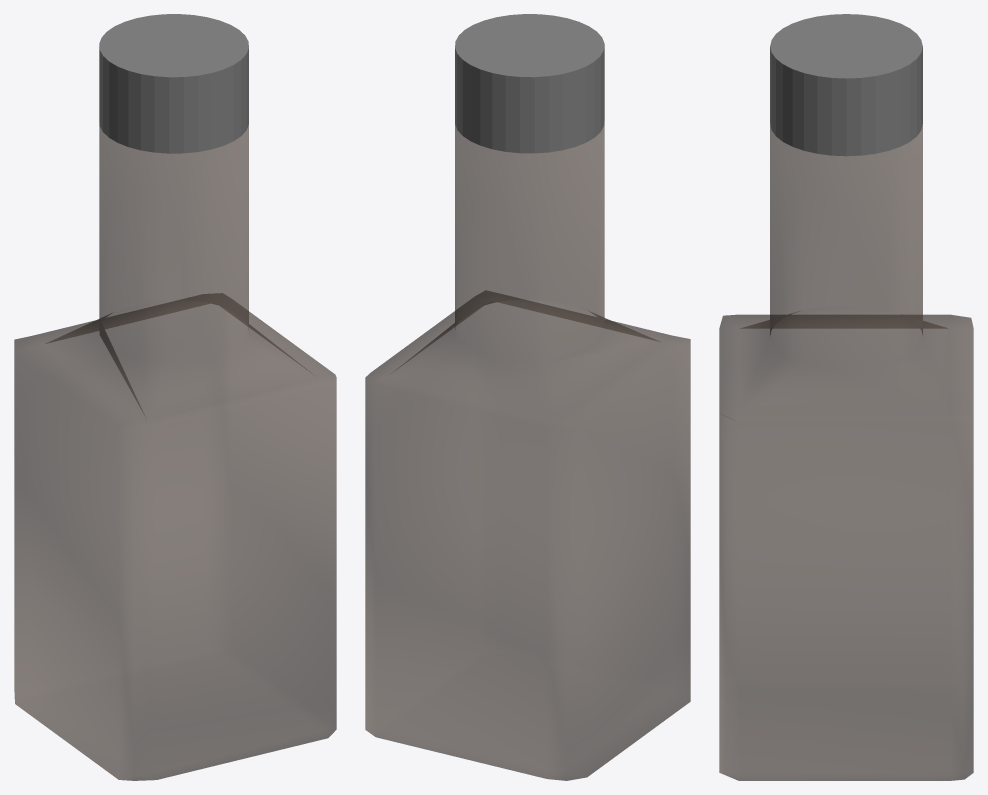
Rendered from vanilla.fbx.
3 views of the same model, side by side, from view 1: azimuth 30°, elevation 25°; view 2: azimuth 150°, elevation 25°; view 3: azimuth 270°, elevation 25° (orthographic).
Parts seen in each view (by area): view 1: Cylinder; view 2: Cylinder; view 3: Cylinder.
Part boxes in pixels (<box>): Cylinder: <box>14,14,336,780</box>; Cylinder: <box>365,14,690,780</box>; Cylinder: <box>719,14,973,780</box>.
Size of the model in its own units: 2 by 5.9 by 2.
